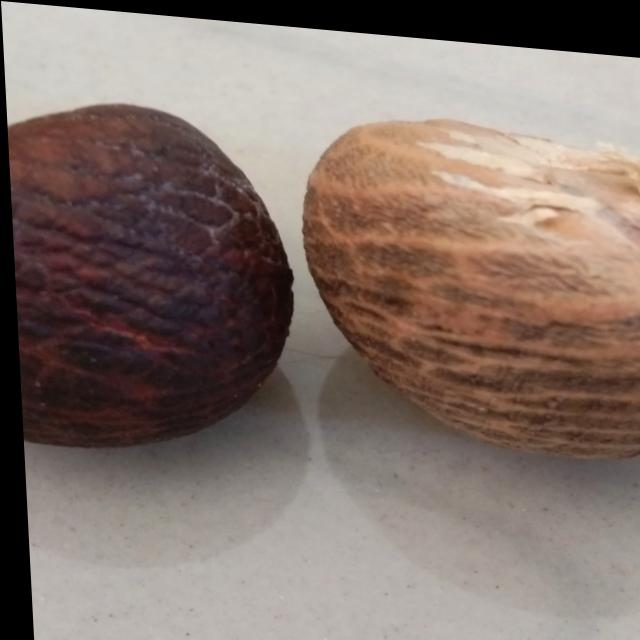good: (301, 105, 640, 461)
karigot: (3, 77, 290, 472)
